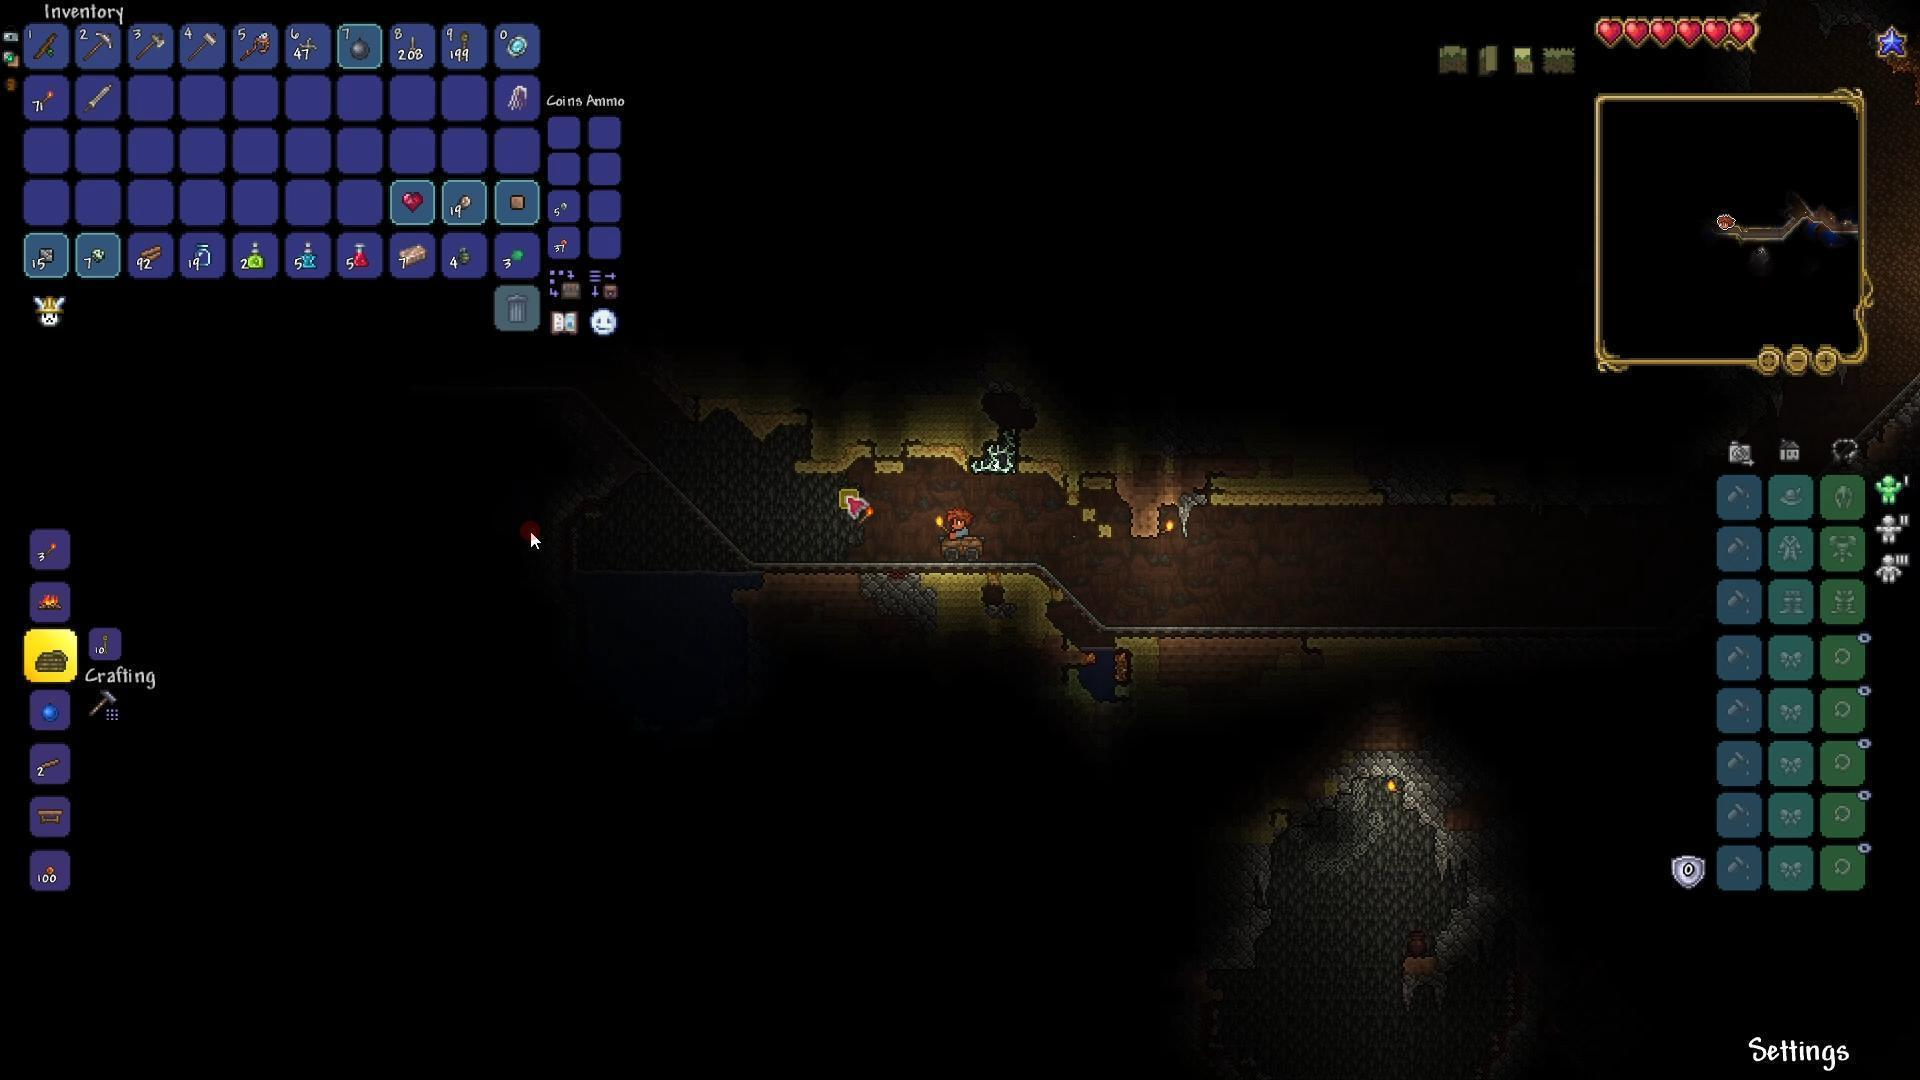axe: (133, 32, 167, 62)
bomb: (349, 36, 373, 62)
workbench: (34, 804, 65, 825)
